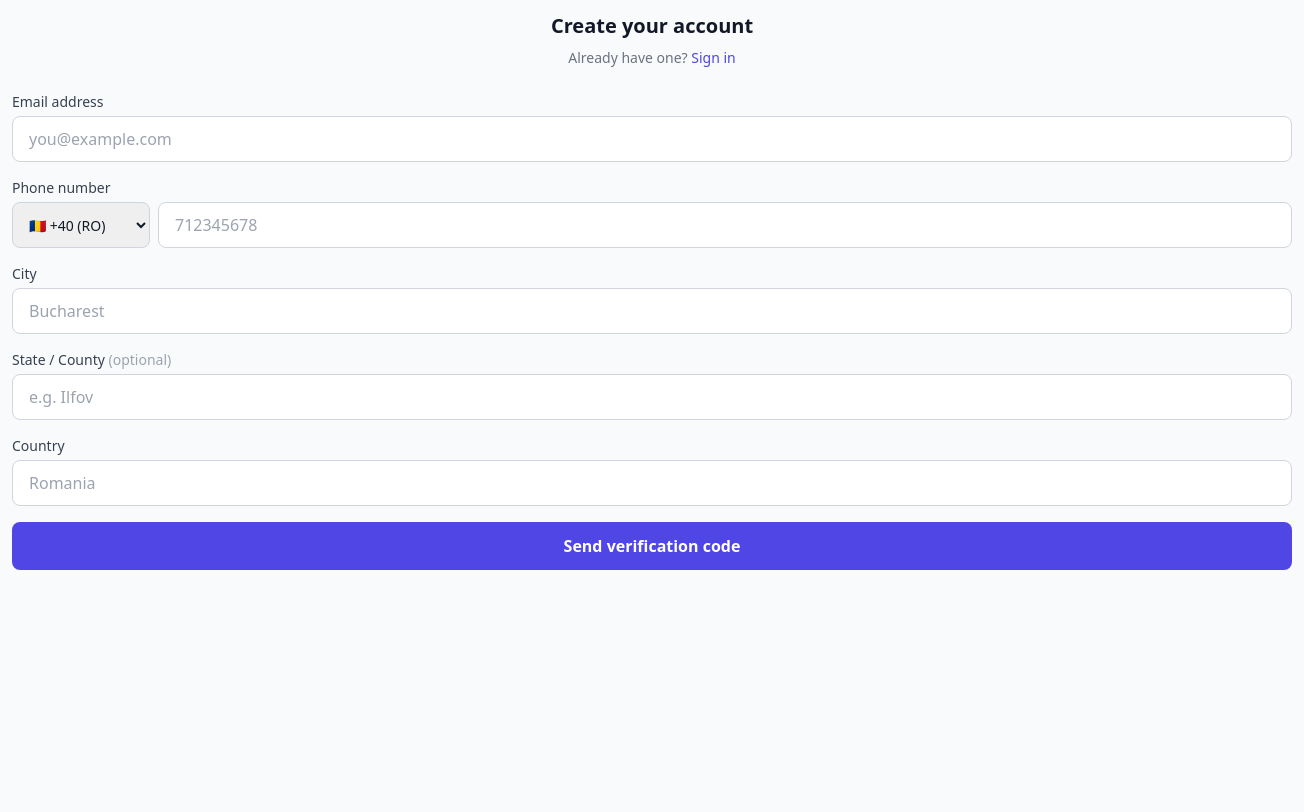
Test: RegisterForm — validation › clears city error once the field is filled in
This screenshot has width=1304, height=812.
Submit the form from the button "Send verification code", box [12,522,1292,570]
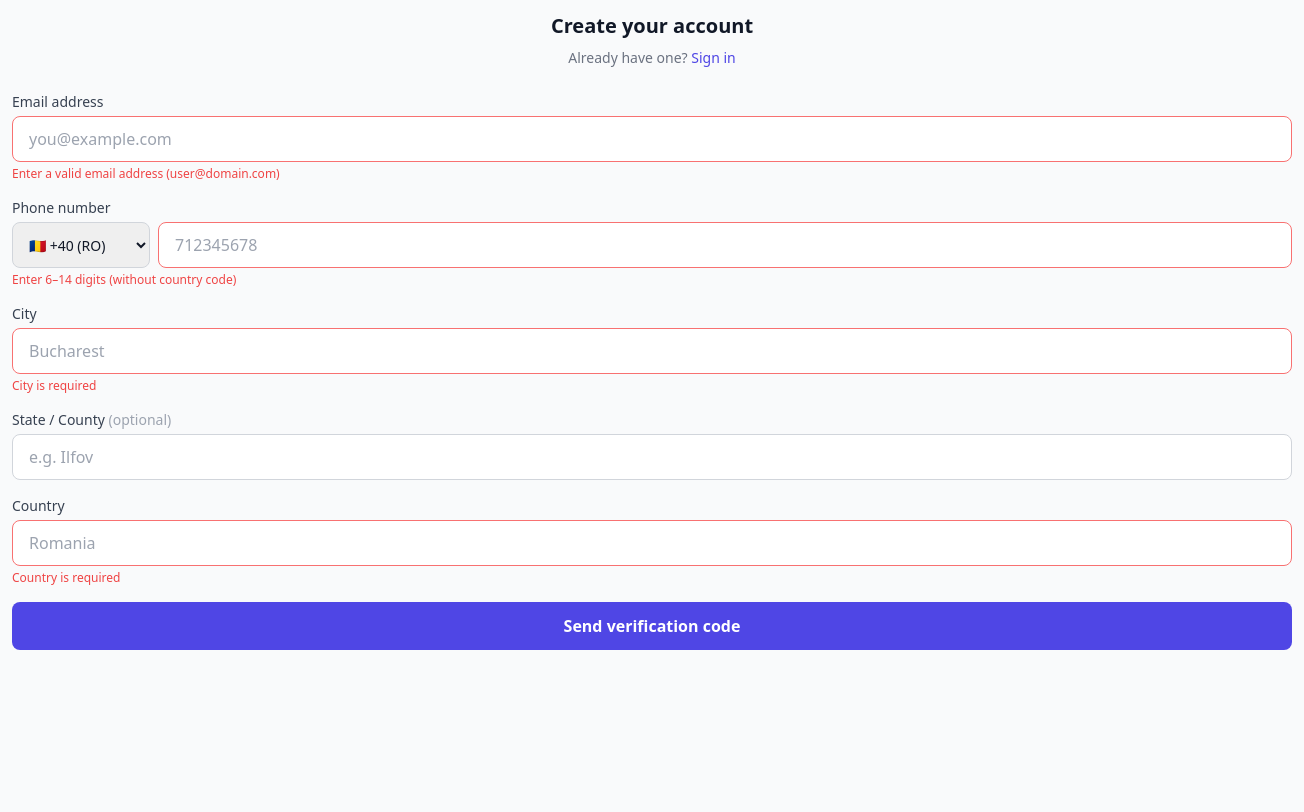
Expected: the text "City is required" is shown, [12,377,96,394]
Type "Cluj" into the field with placeholder "Bucharest". click: {"x": 652, "y": 351}
box: [12,328,1292,374]
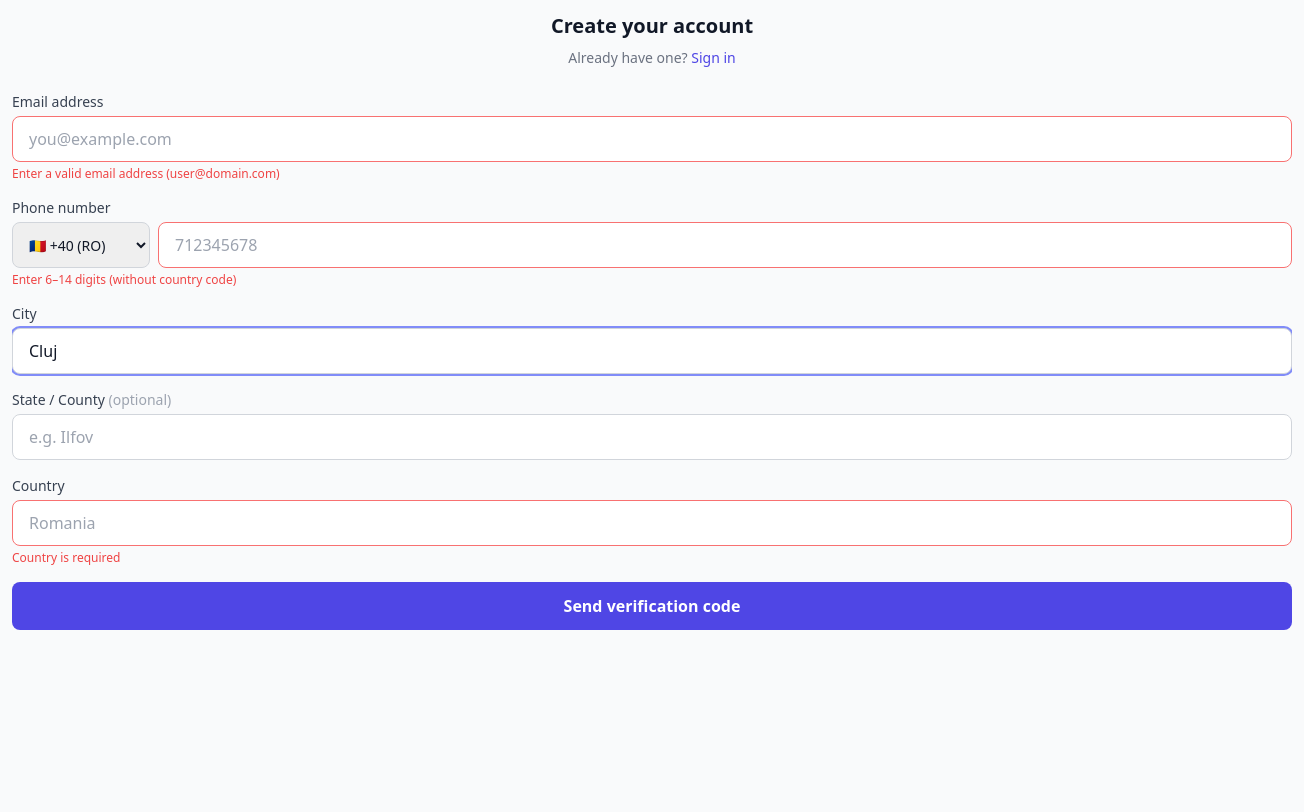
Expected: the text "City is required" is gone
